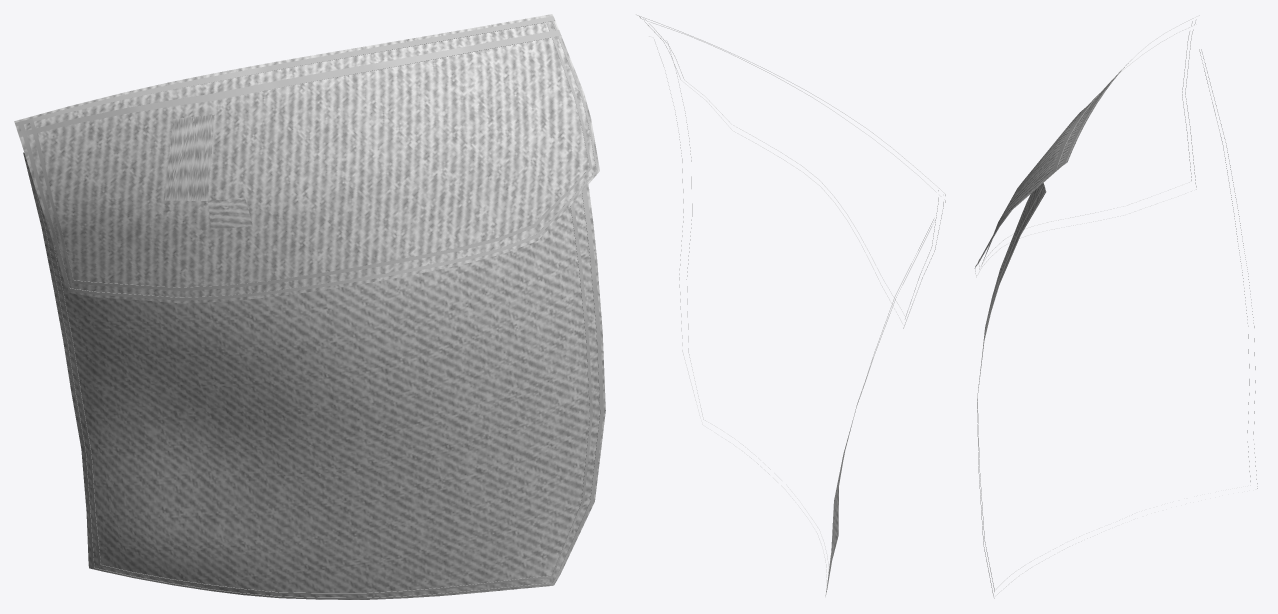
Rendered from Pocket_Right_V1.glb.
The picture shows the model from 3 angles, left to right: view 1: azimuth 30°, elevation 25°; view 2: azimuth 150°, elevation 25°; view 3: azimuth 270°, elevation 25°; orthographic projection. The views are drawn at different scales.
Parts seen in each view (by area): view 1: Pocket_Right_V11, Rope1; view 2: Rope1, Pocket_Right_V11; view 3: Pocket_Right_V11, Rope1.
Boxes of the visible parts, bbox=[...] form: Pocket_Right_V11: bbox=[14, 14, 605, 599]; Rope1: bbox=[15, 16, 603, 599]; Rope1: bbox=[636, 14, 945, 596]; Pocket_Right_V11: bbox=[826, 432, 849, 591]; Pocket_Right_V11: bbox=[974, 63, 1128, 348]; Rope1: bbox=[975, 15, 1257, 598].
Size of the model in its own units: 0.2274 by 0.2599 by 0.144.
2 materials, 2 textured.
